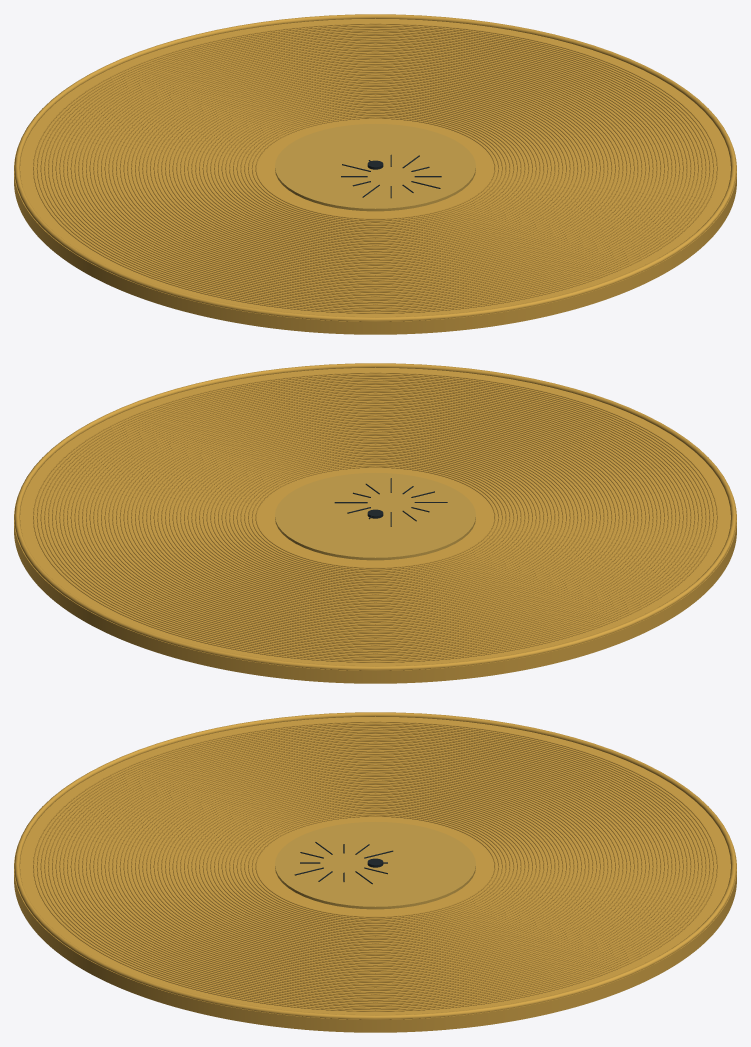
Rendered from record.glb.
3 views of the same model, one above another, from view 1: azimuth 30°, elevation 25°; view 2: azimuth 150°, elevation 25°; view 3: azimuth 270°, elevation 25° (orthographic).
Parts seen in each view (by area): view 1: Main assembly; view 2: Main assembly; view 3: Main assembly.
Boxes of the visible parts, box(x1,y1,x2,y2) form: Main assembly: box(14, 14, 736, 334); Main assembly: box(14, 363, 736, 683); Main assembly: box(14, 712, 736, 1032).
Size of the model in its own units: 2.3 by 0.0635 by 2.3.
